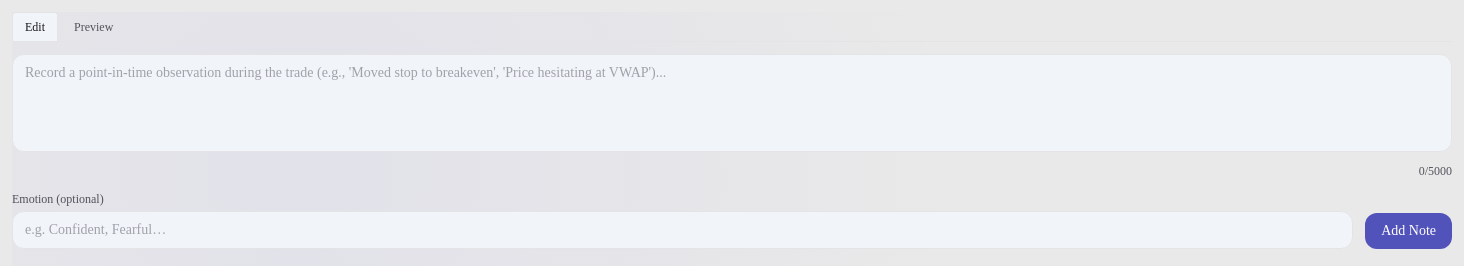
Test: NoteForm › Edit / Preview tab toggle › returns to Edit tab when Edit is clicked from Preview
The image size is (1464, 266).
Click the button "Preview": click(94, 26) [62,12,125,41]
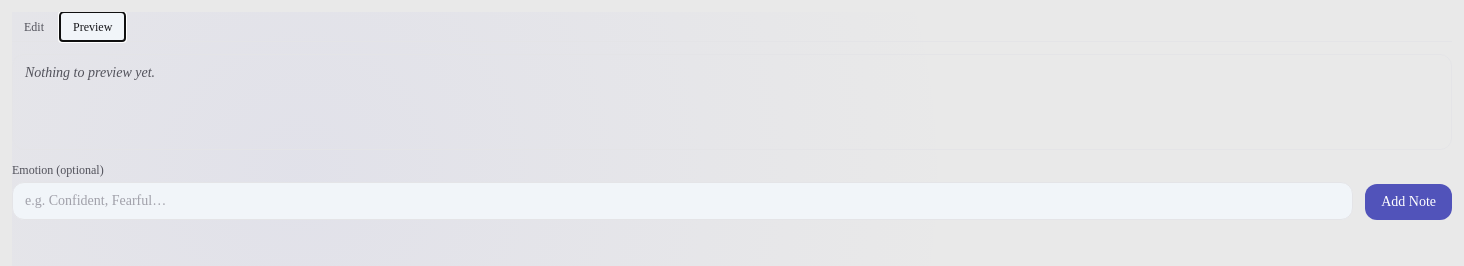
Click the button "Edit": click(34, 26) [12,12,56,41]
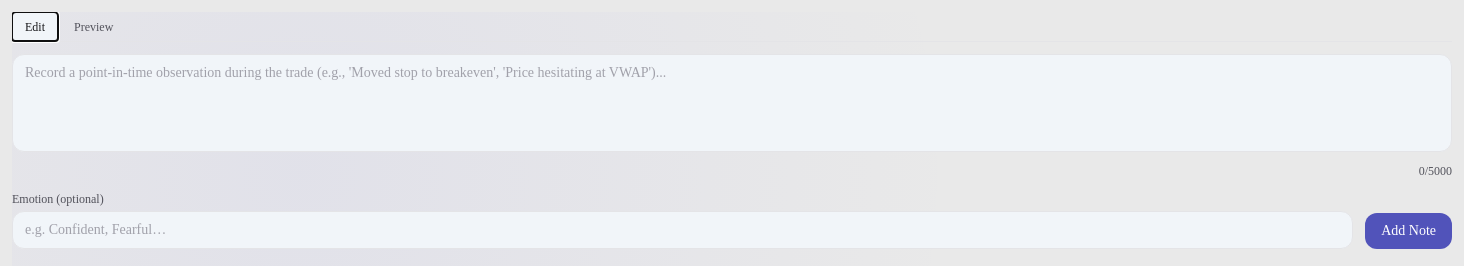
Now the text box is shown, box [12,54,1452,152]
